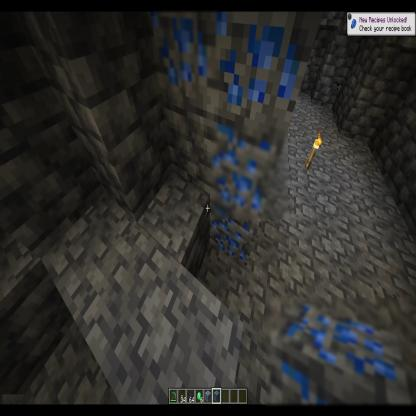lapis ore: (266, 298, 416, 416), (212, 0, 318, 124), (211, 121, 288, 219), (154, 0, 220, 93), (207, 214, 258, 267)
